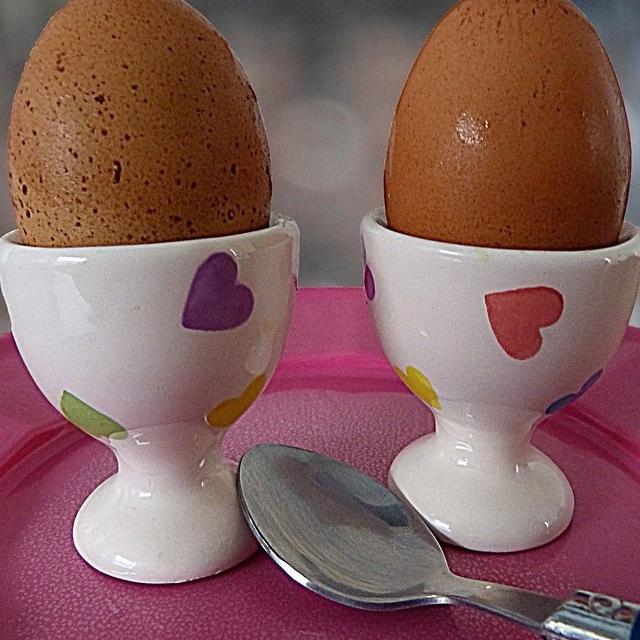egg: (5, 0, 272, 245), (382, 0, 632, 248)
